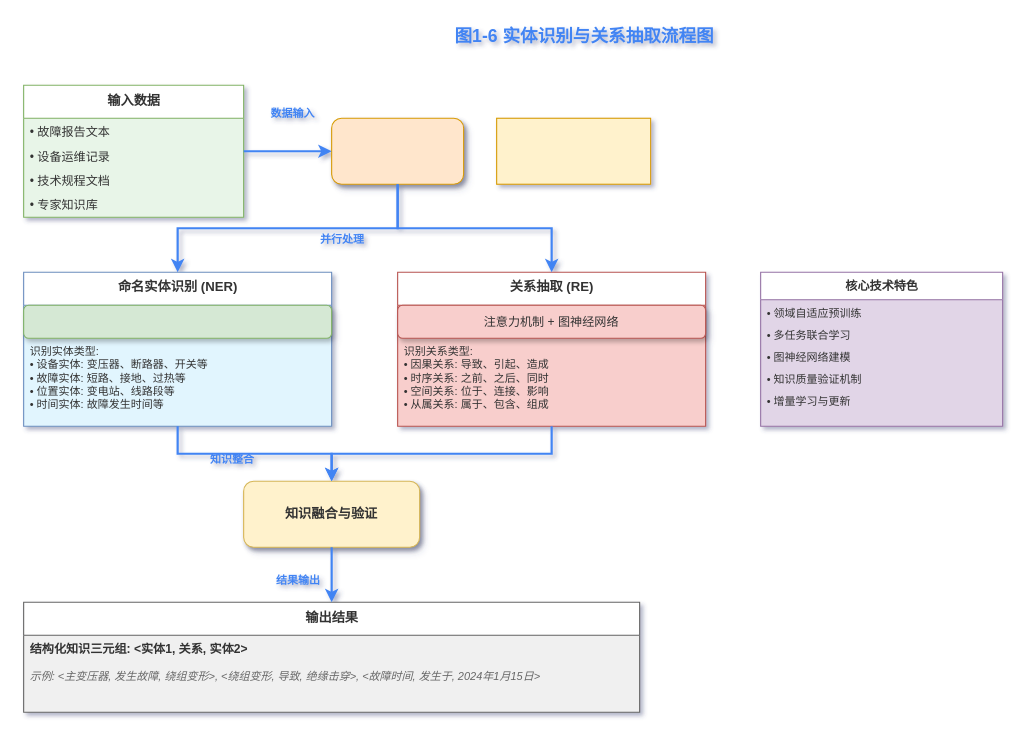
Image size: 1029x740. Some labels were removed from this diagram. Each missing label, with the centre of its shape:
"BERT + BiLSTM-CRF 模型" goes at (x=178, y=323).
"• 文本清洗去噪 • 句子分割 • 词汇标准化 • 专业术语识别" goes at (x=573, y=150).
"文本预处理" goes at (x=398, y=152).
